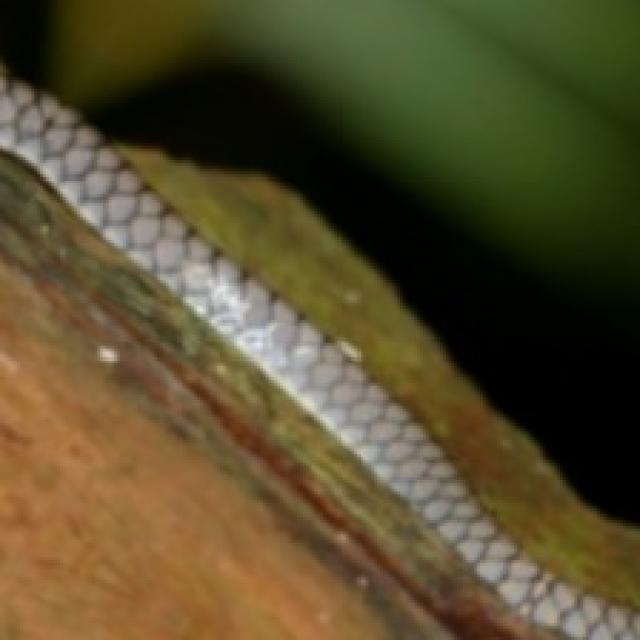red-tailed green ratsnake: (0, 74, 640, 640)
